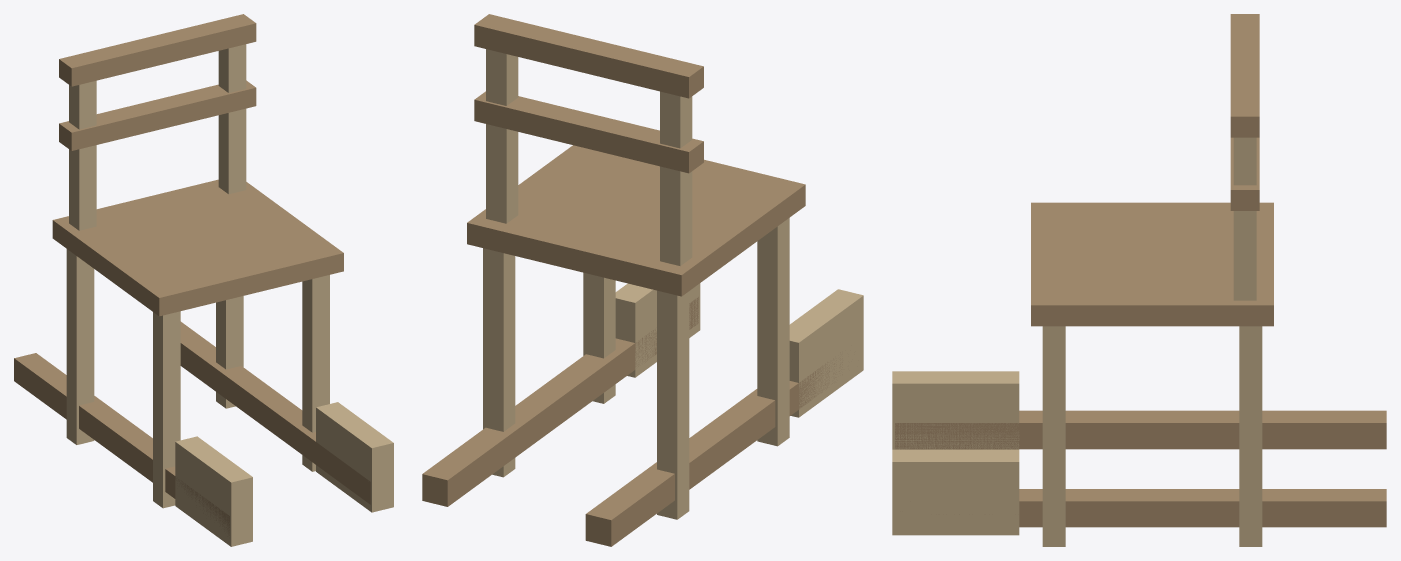
File: mdl_furniture_rocking_chair_001.glb
The picture shows the model from 3 angles, left to right: view 1: azimuth 30°, elevation 25°; view 2: azimuth 150°, elevation 25°; view 3: azimuth 270°, elevation 25°; orthographic projection. The views are drawn at different scales.
Parts seen in each view (by area): view 1: m_madera, m_madera_clara; view 2: m_madera, m_madera_clara; view 3: m_madera, m_madera_clara.
Part boxes in pixels (box(x1,y1,x2,y2)): m_madera: box(14, 14, 370, 536); m_madera_clara: box(66, 44, 393, 546); m_madera: box(422, 14, 842, 546); m_madera_clara: box(483, 49, 863, 519); m_madera: box(895, 14, 1386, 527); m_madera_clara: box(892, 137, 1262, 546).
Size of the model in its own units: 0.42 by 0.83 by 0.855.
